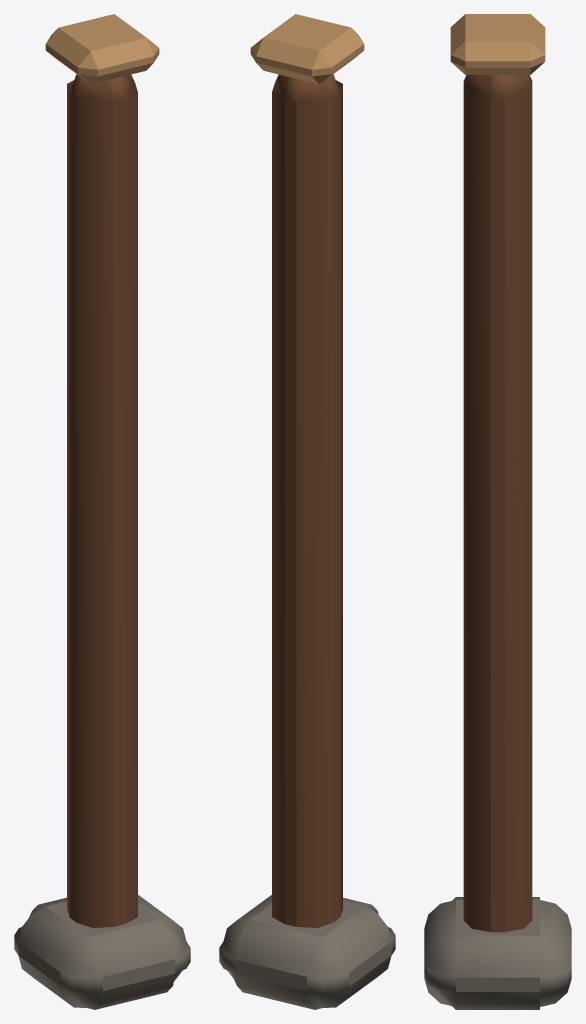
Rendered from signpost.glb.
3 renders of one model, left to right at view 1: azimuth 30°, elevation 25°; view 2: azimuth 150°, elevation 25°; view 3: azimuth 270°, elevation 25°, orthographic.
Visible parts, largest first — view 1: body; view 2: body; view 3: body.
Part boxes in pixels (x1,y1,x2,y2): body: (14, 14, 190, 1009); body: (219, 14, 395, 1009); body: (424, 14, 571, 1009).
Size of the model in its own units: 0.56 by 4.03 by 0.56.
